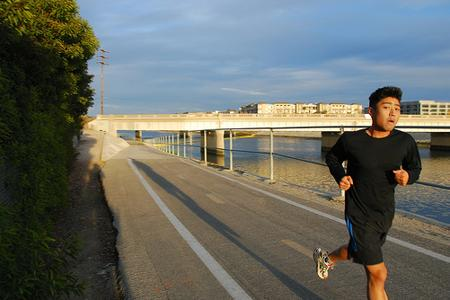person: (314, 87, 423, 300)
